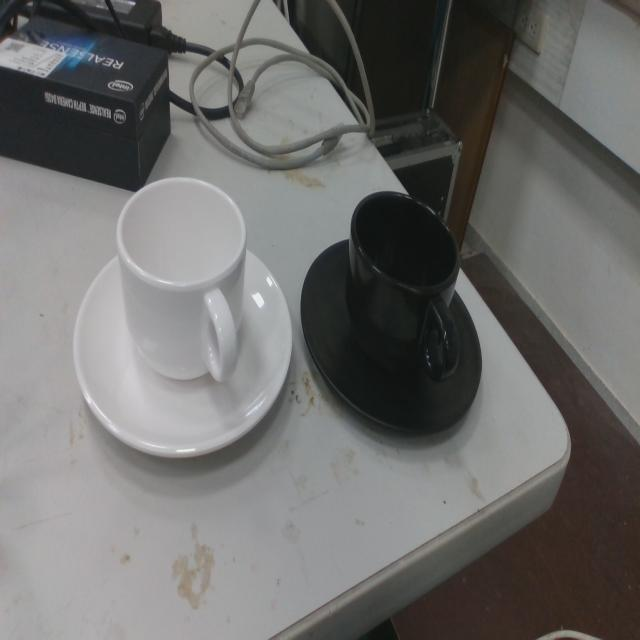black: (298, 188, 484, 444)
white: (71, 172, 295, 468)
